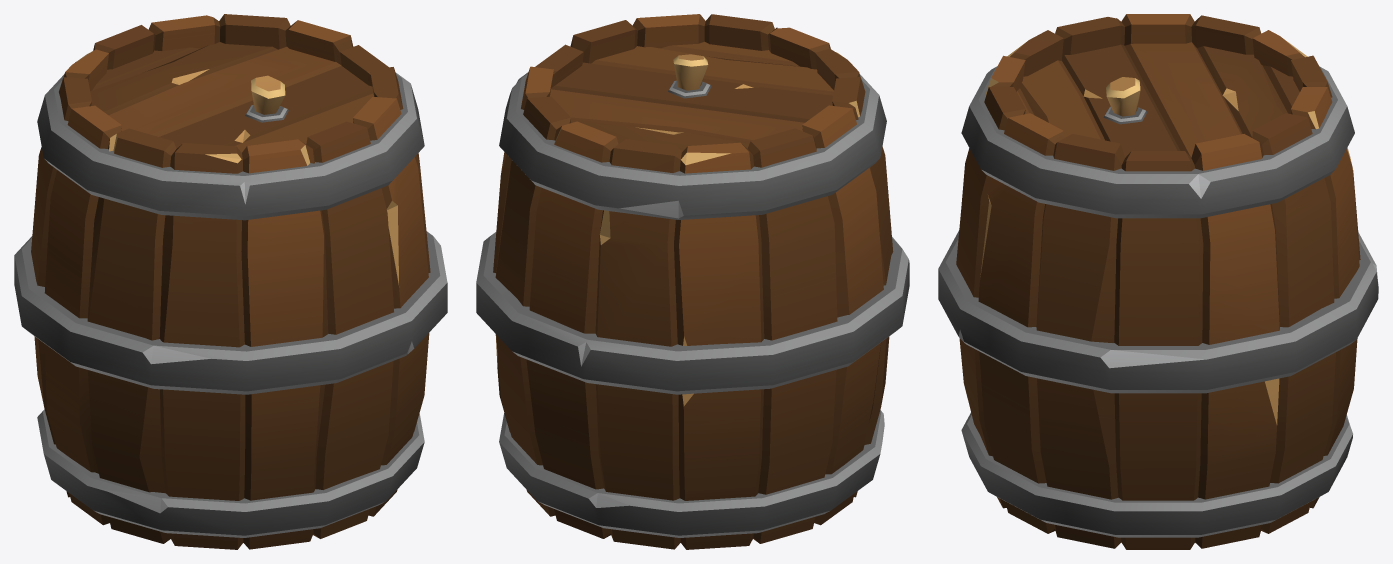
File: Barrel_1_A.glb
3 renders of one model, left to right at view 1: azimuth 30°, elevation 25°; view 2: azimuth 150°, elevation 25°; view 3: azimuth 270°, elevation 25°, orthographic.
Parts seen in each view (by area): view 1: Barrel_1_A; view 2: Barrel_1_A; view 3: Barrel_1_A.
Part boxes in pixels (x1=…): Barrel_1_A: x1=14, y1=14, x2=447, y2=549; Barrel_1_A: x1=476, y1=14, x2=909, y2=549; Barrel_1_A: x1=938, y1=14, x2=1378, y2=549.
Size of the model in its own units: 0.8643 by 0.9066 by 0.887.
2 materials, 2 textured.
